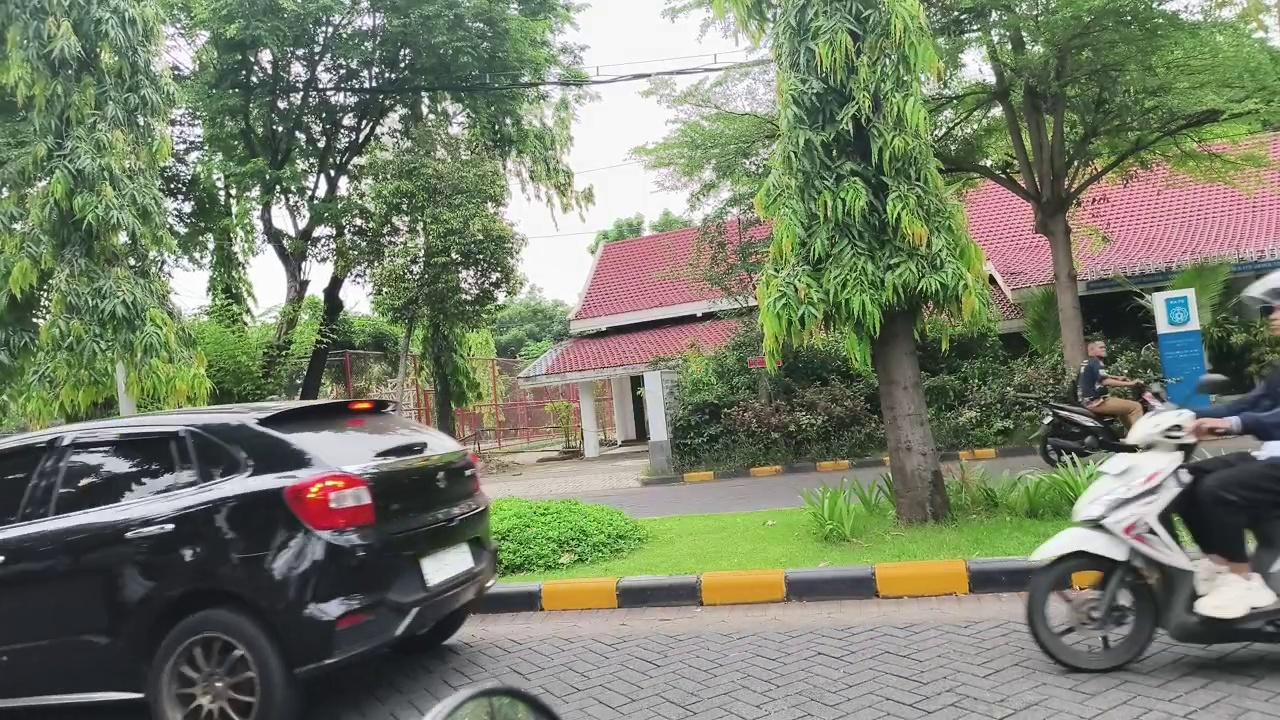Helmet: (1175, 364, 1279, 618), (1078, 341, 1143, 426)
Motor: (1027, 405, 1279, 671), (1033, 401, 1132, 466)
